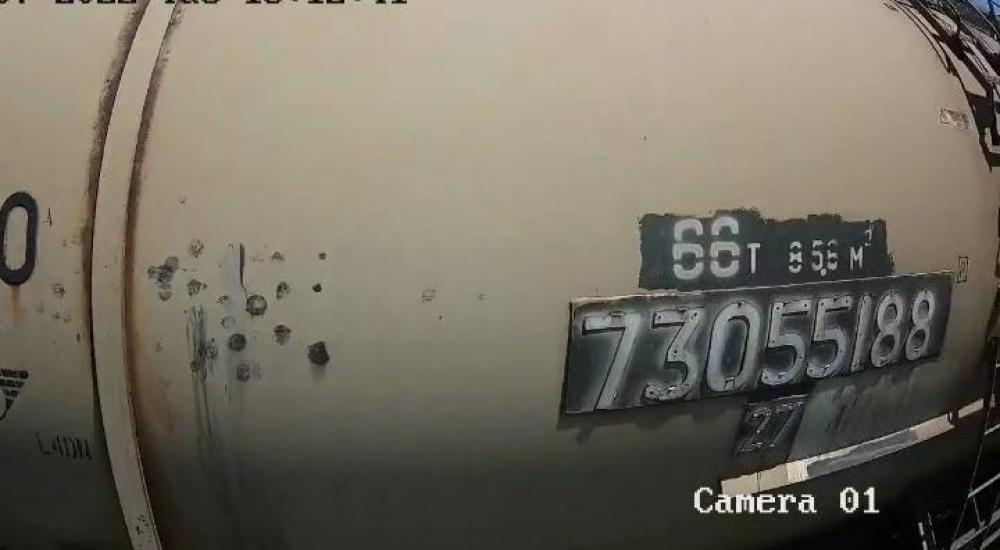Wagon-number: (580, 288, 945, 412)
